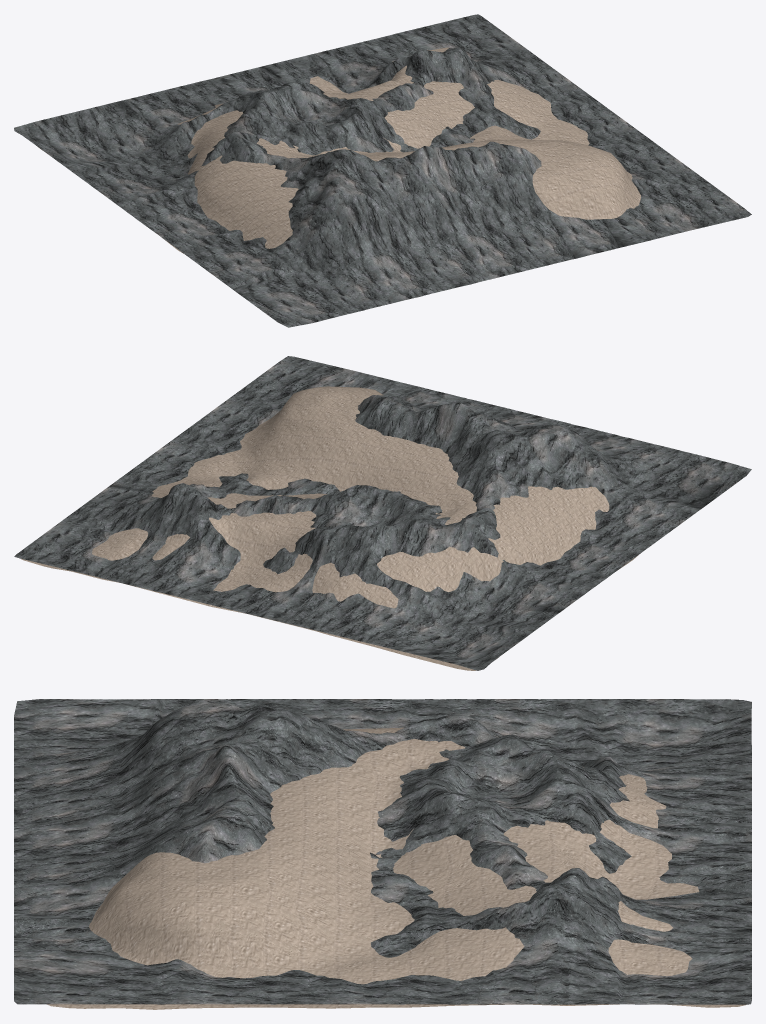
The model's file is Island.gltf.
3 renders of one model, top to bottom at view 1: azimuth 30°, elevation 25°; view 2: azimuth 150°, elevation 25°; view 3: azimuth 270°, elevation 25°, orthographic. The views are drawn at different scales.
Visible parts, largest first — view 1: Island, Sand; view 2: Island, Sand; view 3: Island, Sand.
Boxes of the visible parts, <box> form: Island: <box>14,14,751,327</box>; Sand: <box>38,47,640,253</box>; Island: <box>14,356,751,670</box>; Sand: <box>19,386,638,670</box>; Island: <box>14,699,751,1004</box>; Sand: <box>47,727,745,1009</box>.
Bounding box in the file's own units: 3.3 × 0.6034 × 3.37.
Materials: 2 (2 with a texture image).
